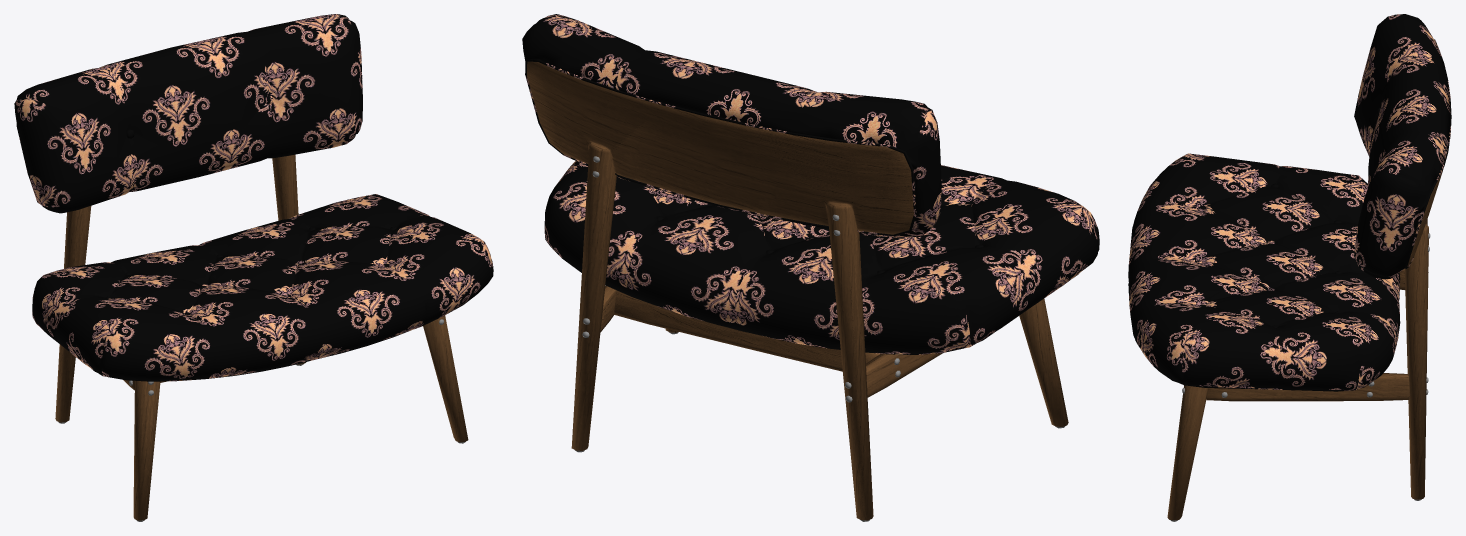
The model's file is chair_damask_purplegold.glb.
3 views of the same model, side by side, from view 1: azimuth 30°, elevation 25°; view 2: azimuth 150°, elevation 25°; view 3: azimuth 270°, elevation 25° (orthographic). The views are drawn at different scales.
Parts seen in each view (by area): view 1: oval-tufted-chair_back-fabric, oval-tufted-chair_legs-frame; view 2: oval-tufted-chair_back-fabric, oval-tufted-chair_legs-frame; view 3: oval-tufted-chair_back-fabric, oval-tufted-chair_legs-frame.
Part boxes in pixels (x1,y1,x2,y2): oval-tufted-chair_back-fabric: (14,14,493,381); oval-tufted-chair_legs-frame: (55,154,468,520); oval-tufted-chair_back-fabric: (522,14,1099,354); oval-tufted-chair_legs-frame: (527,61,1068,520); oval-tufted-chair_back-fabric: (1128,14,1451,391); oval-tufted-chair_legs-frame: (1167,169,1443,520).
Bounding box in the file's own units: 0.8286 × 0.6874 × 0.5716.
Materials: 4 (3 with a texture image).
